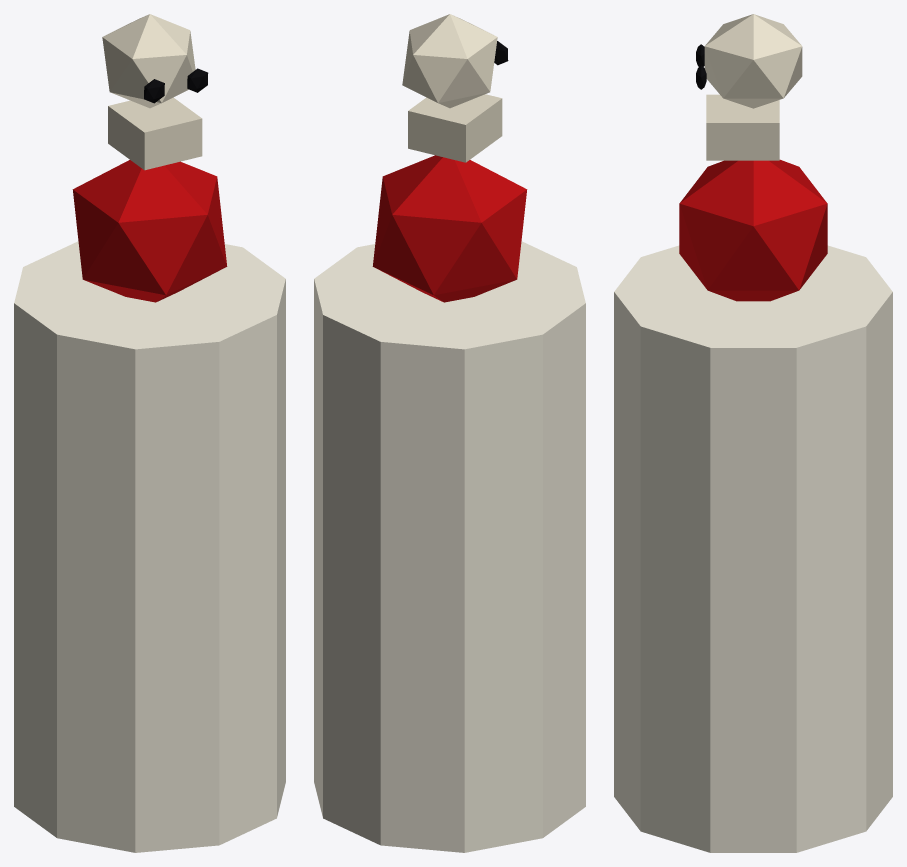
File: Item_OR_Tonic_20.glb
3 renders of one model, left to right at view 1: azimuth 30°, elevation 25°; view 2: azimuth 150°, elevation 25°; view 3: azimuth 270°, elevation 25°, orthographic.
Parts seen in each view (by area): view 1: Item_OR_Tonic_20; view 2: Item_OR_Tonic_20; view 3: Item_OR_Tonic_20.
Part boxes in pixels (x1=…): Item_OR_Tonic_20: x1=14, y1=14, x2=285, y2=852; Item_OR_Tonic_20: x1=314, y1=14, x2=585, y2=852; Item_OR_Tonic_20: x1=614, y1=14, x2=892, y2=852.
Size of the model in its own units: 0.0761 by 0.248 by 0.08.
